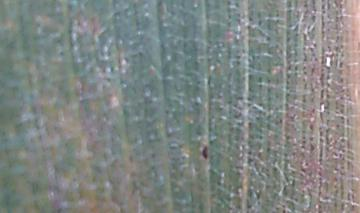tarspot: (199, 140, 210, 161)
